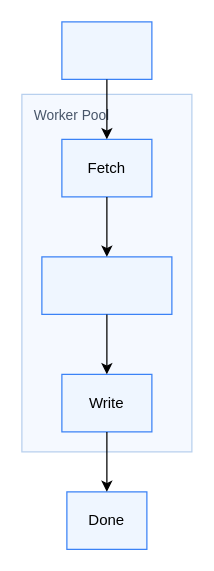
Image size: 214x571. Some labels were removed from this diagram. The shapes that lost their labels are listed below. From the top down, each one's centre as x and y in pixels, then its label:
At (x=106, y=50): "Start".
At (x=106, y=285): "Transform".
